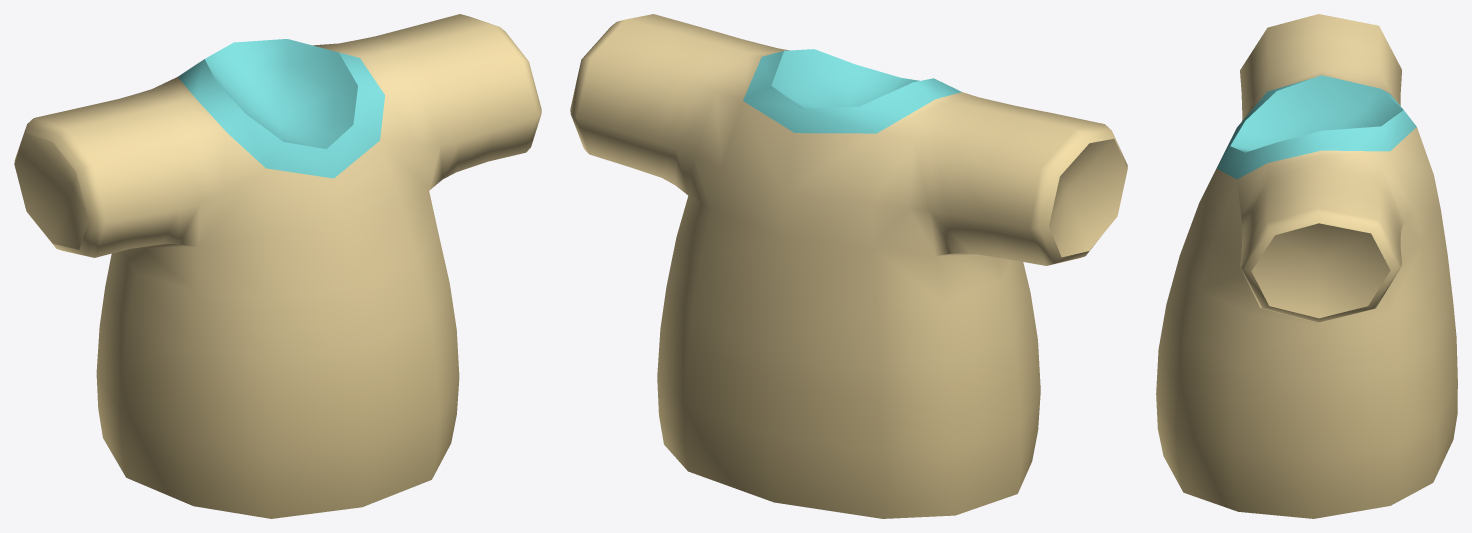
Rendered from Top_06.fbx.
3 views of the same model, side by side, from view 1: azimuth 30°, elevation 25°; view 2: azimuth 150°, elevation 25°; view 3: azimuth 270°, elevation 25° (orthographic). The views are drawn at different scales.
Visible parts, largest first — view 1: Top_06; view 2: Top_06; view 3: Top_06.
Part boxes in pixels (box(x1,y1,x2,y2)): Top_06: box(14, 14, 541, 518); Top_06: box(570, 14, 1127, 518); Top_06: box(1156, 14, 1457, 518).
Bounding box in the file's own units: 57.92 × 46.22 × 35.79.
